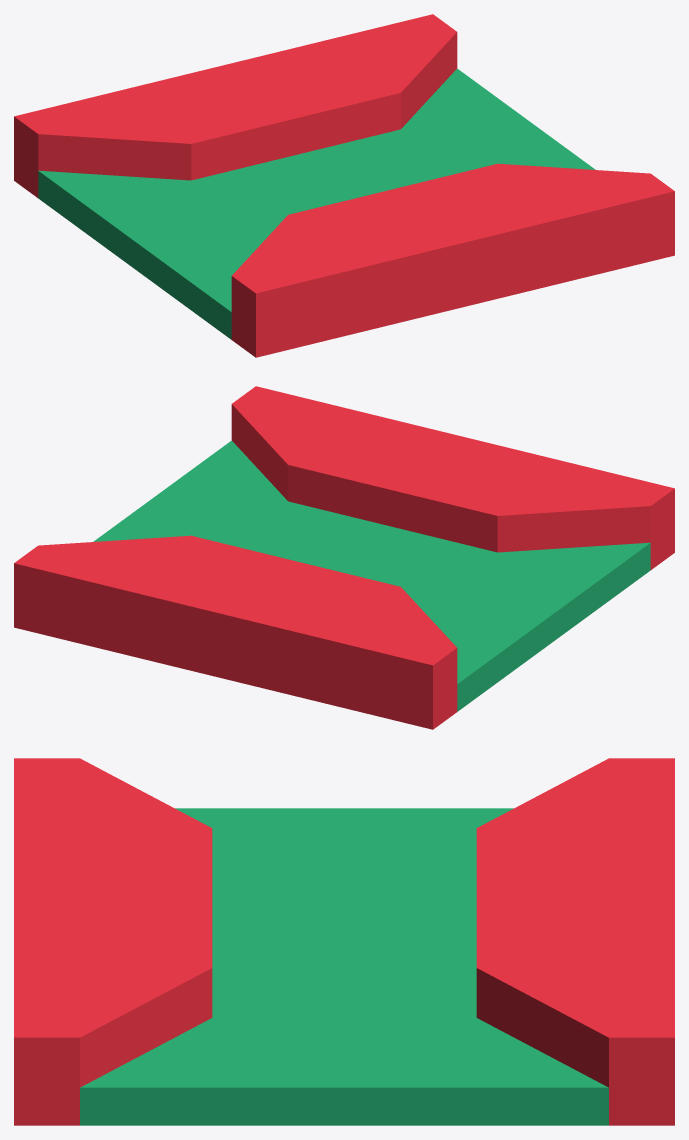
File: narrowSquare.obj
3 views of the same model, one above another, from view 1: azimuth 30°, elevation 25°; view 2: azimuth 150°, elevation 25°; view 3: azimuth 270°, elevation 25° (orthographic). The views are drawn at different scales.
Parts seen in each view (by area): view 1: narrowSquare; view 2: narrowSquare; view 3: narrowSquare.
Boxes of the visible parts, x1=… form: narrowSquare: x1=14, y1=14, x2=674, y2=357; narrowSquare: x1=14, y1=386, x2=674, y2=729; narrowSquare: x1=14, y1=758, x2=674, y2=1125.
Size of the model in its own units: 0.9999 by 0.1467 by 0.9999.
